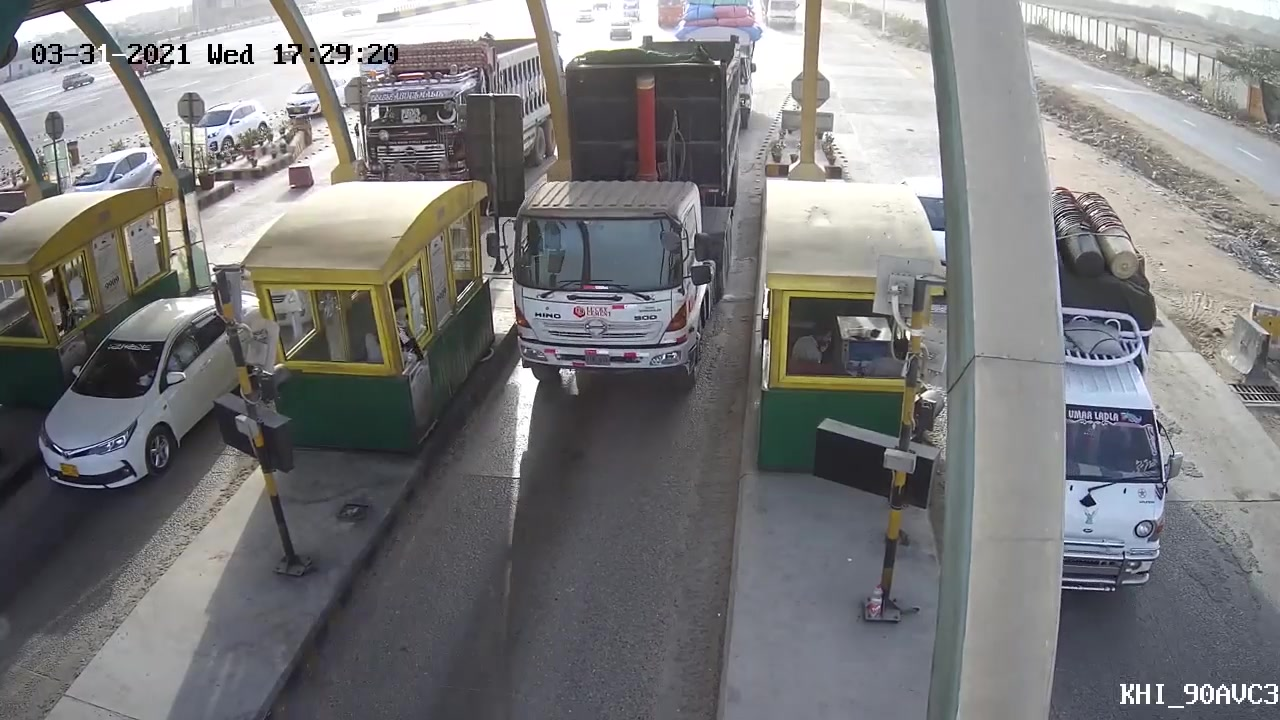F6: (501, 31, 760, 404)
